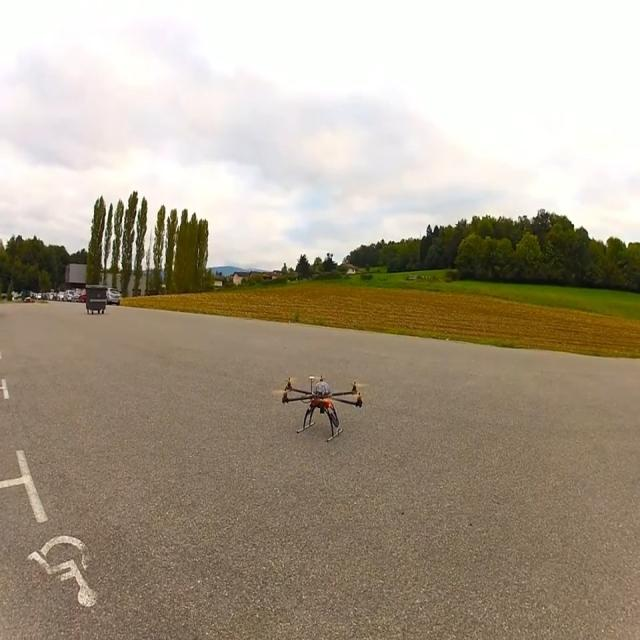drone: (280, 373, 364, 442)
